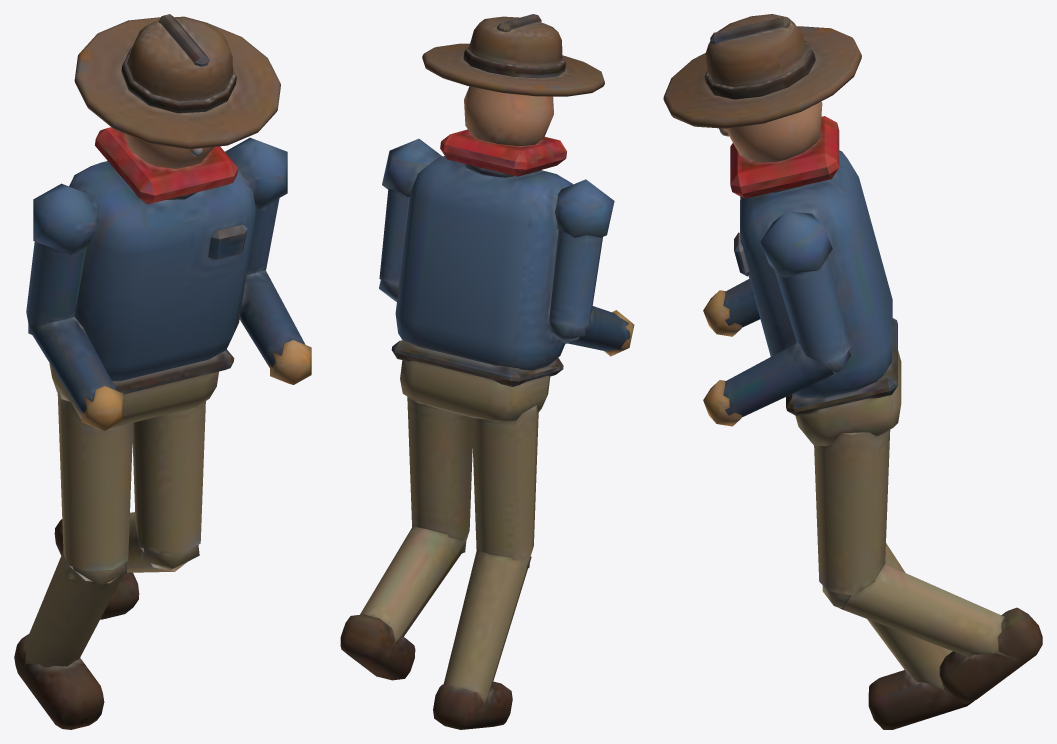
The model's file is farmer_run_0.glb.
3 renders of one model, left to right at view 1: azimuth 30°, elevation 25°; view 2: azimuth 150°, elevation 25°; view 3: azimuth 270°, elevation 25°, orthographic. The views are drawn at different scales.
Parts seen in each view (by area): view 1: farmer_run_0; view 2: farmer_run_0; view 3: farmer_run_0.
Part boxes in pixels (bbox=[...]): farmer_run_0: bbox=[14, 14, 311, 729]; farmer_run_0: bbox=[340, 14, 634, 729]; farmer_run_0: bbox=[663, 14, 1042, 729].
Bounding box in the file's own units: 0.6899 × 1.96 × 0.9286.
Materials: 1 (1 with a texture image).
